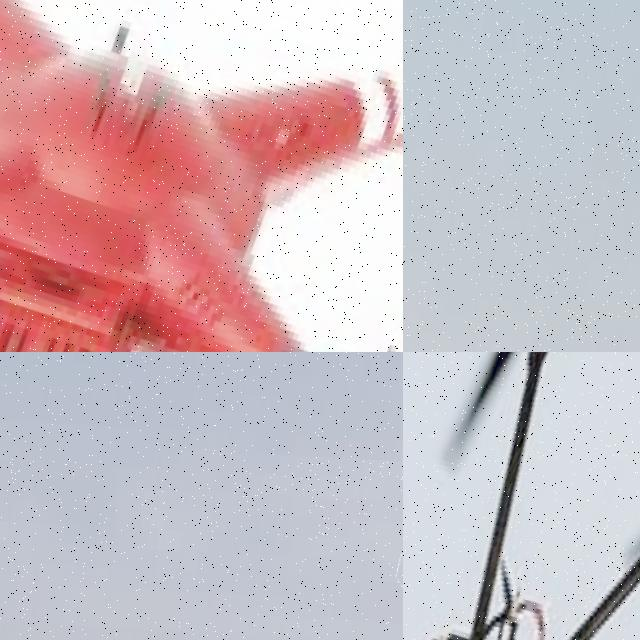drone: (0, 0, 403, 352), (403, 352, 640, 640)
